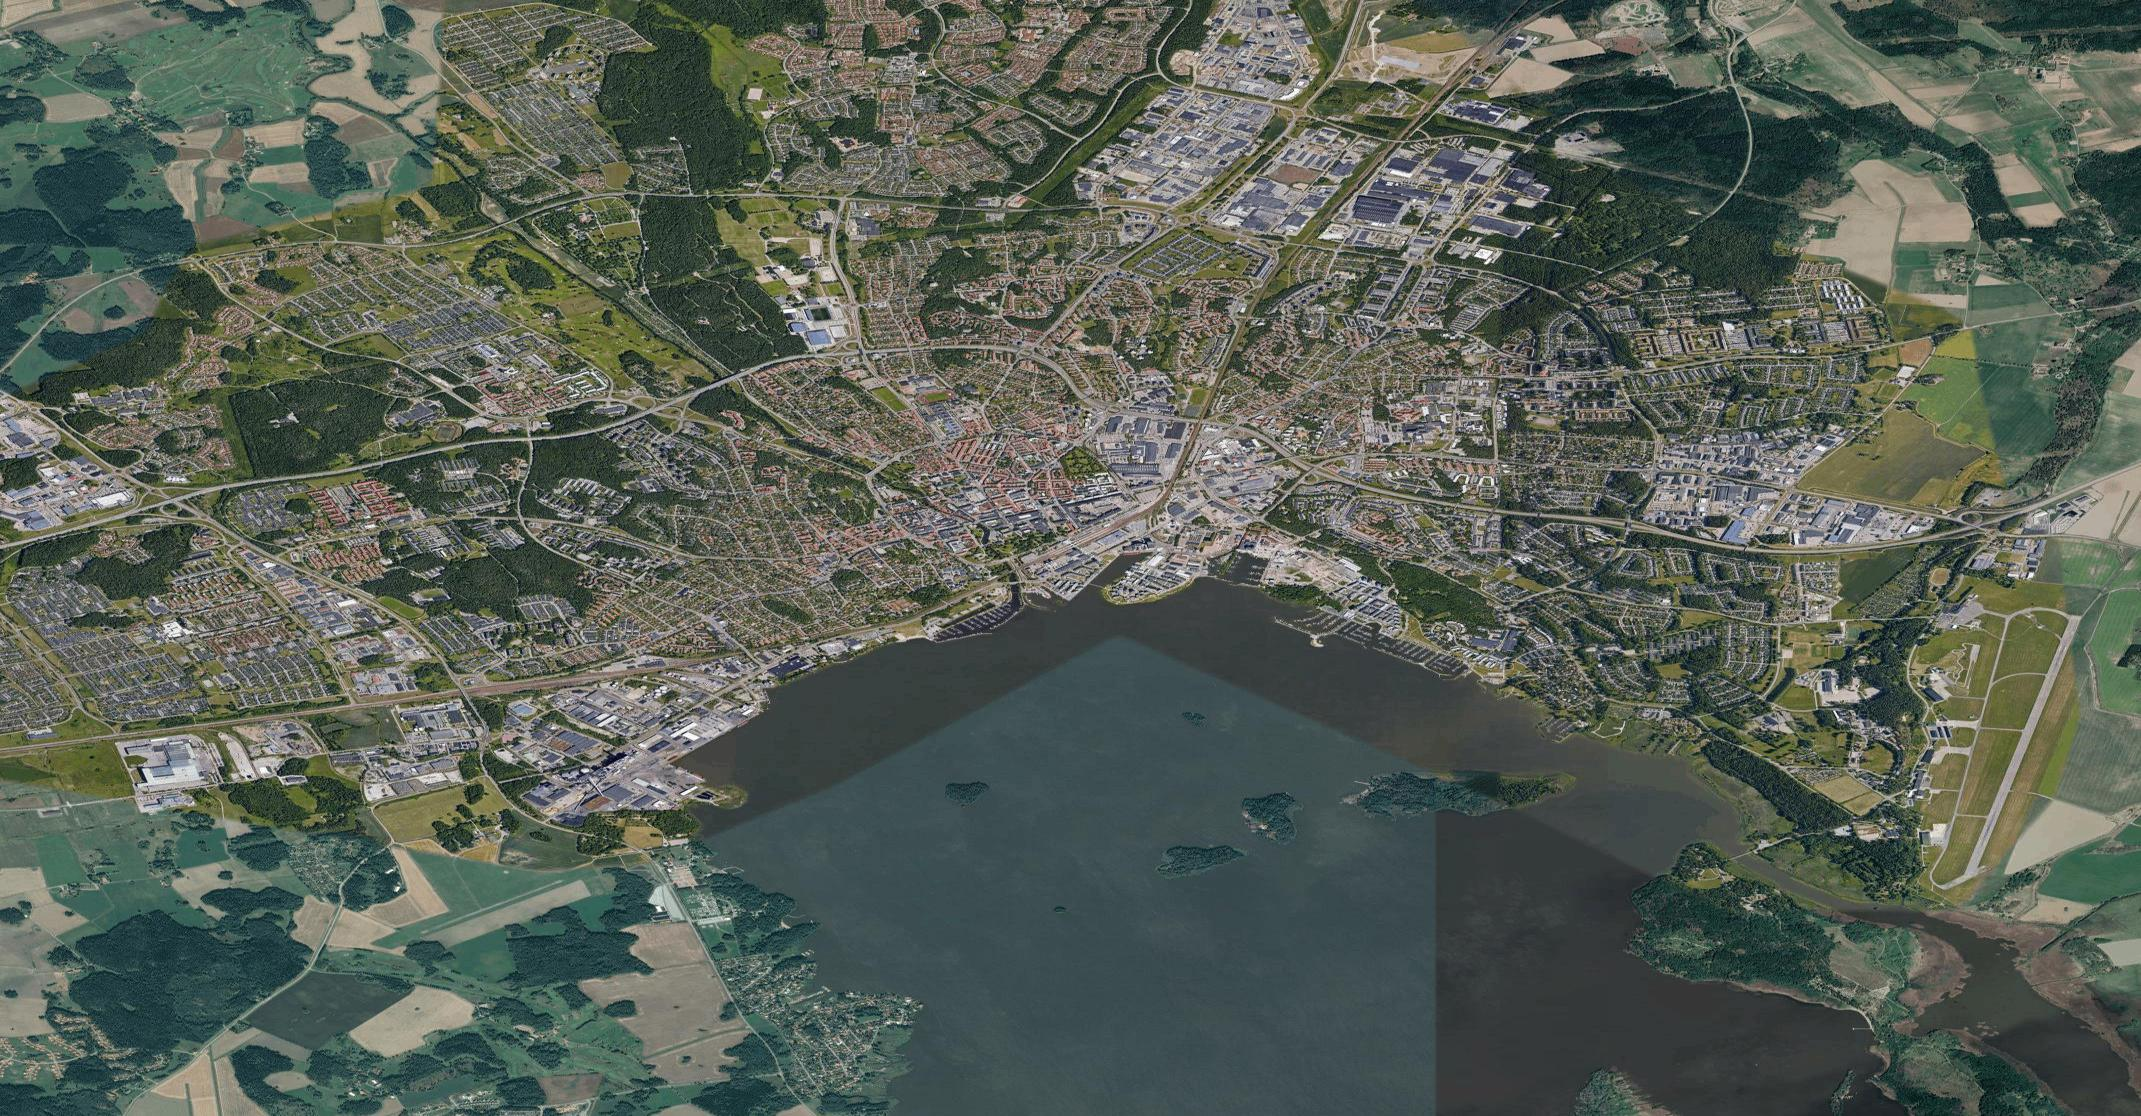harbor: (1277, 589, 1483, 691), (1045, 537, 1163, 616), (915, 583, 1032, 651), (1202, 550, 1273, 595)
motorway: (1950, 460, 2141, 545), (1, 494, 197, 555), (1597, 516, 1810, 559), (565, 382, 712, 442), (195, 457, 384, 501), (381, 429, 564, 470), (1276, 445, 1413, 499), (1022, 351, 1129, 415), (712, 350, 858, 387), (1415, 496, 1594, 524), (1803, 530, 1947, 559), (1121, 414, 1269, 440), (860, 343, 1025, 358)
train_station: (1027, 516, 1129, 571)
